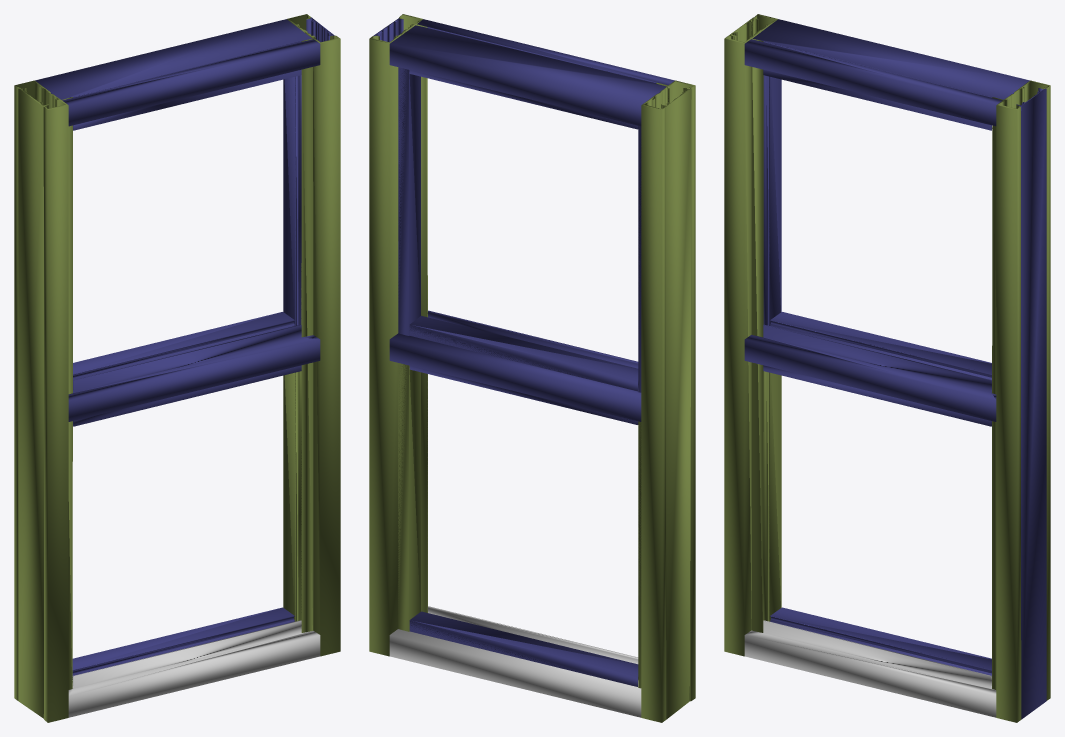
3 renders of one model, left to right at view 1: azimuth 30°, elevation 25°; view 2: azimuth 150°, elevation 25°; view 3: azimuth 330°, elevation 25°, orthographic.
Parts seen in each view (by area): view 1: Layer_Frame_Right_1_Jamb_2_ES8001, Layer_Frame_Left_1_Jamb_1_ES8001, Layer_Frame_Left_2_Shear_Clip_1_ES8003, Layer_Frame_Top_1_Head_Sill_1_ES_8007, Layer_Rail_1_Intermediate_Horizontal_ES8004, Layer_Frame_Bottom_1_Sill_ESEL102, Layer_A_Right_1_Glazing_Bead_2_ES8006, Layer_B_Right_1_Glazing_Bead_2_ES8006, Layer_B_Bottom_1_Glazing_Bead_2_ES8006, Layer_A_Bottom_1_Glazing_Bead_2_ES8006; view 2: Layer_Frame_Right_1_Jamb_2_ES8001, Layer_Frame_Left_1_Jamb_1_ES8001, Layer_Frame_Left_2_Shear_Clip_1_ES8003, Layer_Frame_Top_1_Head_Sill_1_ES_8007, Layer_Frame_Bottom_1_Sill_ESEL102, Layer_Rail_1_Intermediate_Horizontal_ES8004, Layer_A_Right_1_Glazing_Bead_2_ES8006, Layer_B_Right_1_Glazing_Bead_2_ES8006, Layer_B_Bottom_1_Glazing_Bead_2_ES8006, Layer_A_Bottom_1_Glazing_Bead_2_ES8006, Layer_A_Left_1_Glazing_Bead_1_ES8006, Layer_B_Left_1_Glazing_Bead_1_ES8006 (+2 smaller); view 3: Layer_Frame_Left_1_Jamb_1_ES8001, Layer_Frame_Right_1_Jamb_2_ES8001, Layer_Frame_Right_2_Shear_Clip_2_ES8003, Layer_Frame_Top_1_Head_Sill_1_ES_8007, Layer_Rail_1_Intermediate_Horizontal_ES8004, Layer_Frame_Bottom_1_Sill_ESEL102, Layer_A_Left_1_Glazing_Bead_1_ES8006, Layer_B_Left_1_Glazing_Bead_1_ES8006, Layer_A_Bottom_1_Glazing_Bead_2_ES8006, Layer_B_Bottom_1_Glazing_Bead_2_ES8006.
Boxes of the visible parts, x1,y1,x2,y2 form: Layer_Frame_Right_1_Jamb_2_ES8001: [287, 14, 340, 656]; Layer_Frame_Left_1_Jamb_1_ES8001: [14, 80, 72, 722]; Layer_Frame_Left_2_Shear_Clip_1_ES8003: [18, 88, 48, 718]; Layer_Frame_Top_1_Head_Sill_1_ES_8007: [35, 19, 320, 130]; Layer_Rail_1_Intermediate_Horizontal_ES8004: [68, 324, 320, 426]; Layer_Frame_Bottom_1_Sill_ESEL102: [68, 620, 320, 717]; Layer_A_Right_1_Glazing_Bead_2_ES8006: [283, 75, 301, 325]; Layer_B_Right_1_Glazing_Bead_2_ES8006: [283, 371, 301, 621]; Layer_B_Bottom_1_Glazing_Bead_2_ES8006: [72, 607, 294, 679]; Layer_A_Bottom_1_Glazing_Bead_2_ES8006: [73, 312, 294, 380]; Layer_Frame_Right_1_Jamb_2_ES8001: [369, 14, 427, 656]; Layer_Frame_Left_1_Jamb_1_ES8001: [641, 80, 695, 722]; Layer_Frame_Left_2_Shear_Clip_1_ES8003: [661, 88, 691, 719]; Layer_Frame_Top_1_Head_Sill_1_ES_8007: [389, 19, 674, 126]; Layer_Frame_Bottom_1_Sill_ESEL102: [389, 606, 641, 717]; Layer_Rail_1_Intermediate_Horizontal_ES8004: [389, 310, 641, 421]; Layer_A_Right_1_Glazing_Bead_2_ES8006: [398, 67, 420, 335]; Layer_B_Right_1_Glazing_Bead_2_ES8006: [398, 363, 420, 631]; Layer_B_Bottom_1_Glazing_Bead_2_ES8006: [409, 611, 638, 686]; Layer_A_Bottom_1_Glazing_Bead_2_ES8006: [409, 315, 638, 391]; Layer_A_Left_1_Glazing_Bead_1_ES8006: [638, 126, 641, 392]; Layer_B_Left_1_Glazing_Bead_1_ES8006: [638, 421, 641, 688]; Layer_Frame_Left_1_Jamb_1_ES8001: [724, 14, 777, 656]; Layer_Frame_Right_1_Jamb_2_ES8001: [992, 80, 1050, 722]; Layer_Frame_Right_2_Shear_Clip_2_ES8003: [1016, 88, 1046, 719]; Layer_Frame_Top_1_Head_Sill_1_ES_8007: [744, 19, 1029, 130]; Layer_Rail_1_Intermediate_Horizontal_ES8004: [744, 324, 996, 426]; Layer_Frame_Bottom_1_Sill_ESEL102: [744, 620, 996, 717]; Layer_A_Left_1_Glazing_Bead_1_ES8006: [763, 75, 781, 325]; Layer_B_Left_1_Glazing_Bead_1_ES8006: [763, 371, 781, 621]; Layer_A_Bottom_1_Glazing_Bead_2_ES8006: [770, 312, 991, 380]; Layer_B_Bottom_1_Glazing_Bead_2_ES8006: [770, 607, 991, 676].
Bounding box in the file's own units: 25 × 50 × 5.
